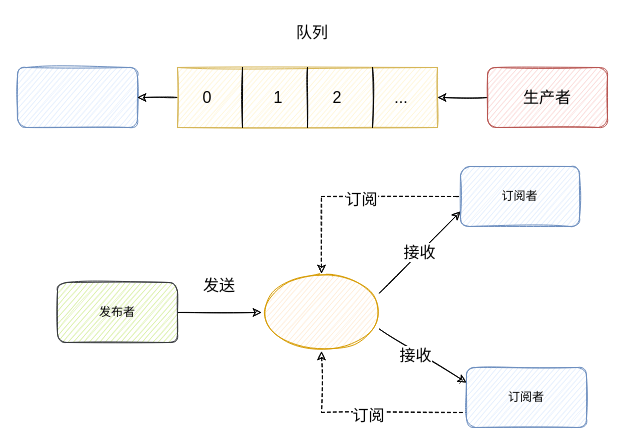
This 625x445 diagram has some shape labels left out. The centre of each missing label's shape, as x and y in pixels:
"主题 （Topic）" belongs at point 321,312.
"消费者" belongs at point 77,97.
